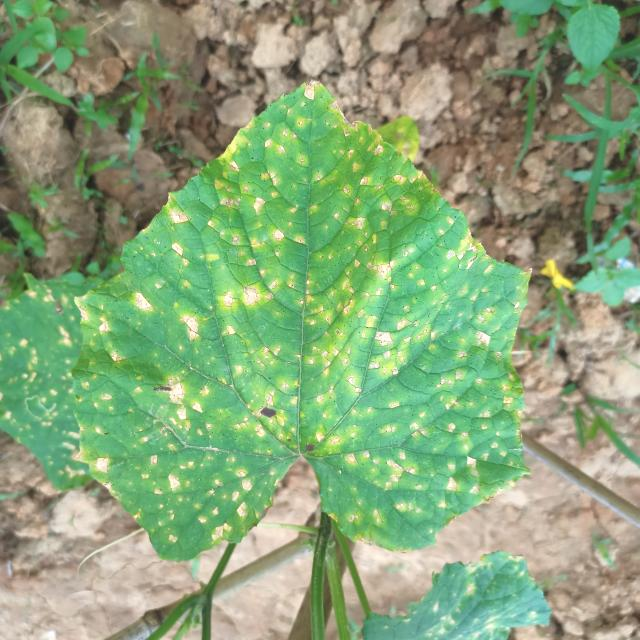disease_cucumber: (96, 118, 518, 537), (0, 285, 97, 477)
